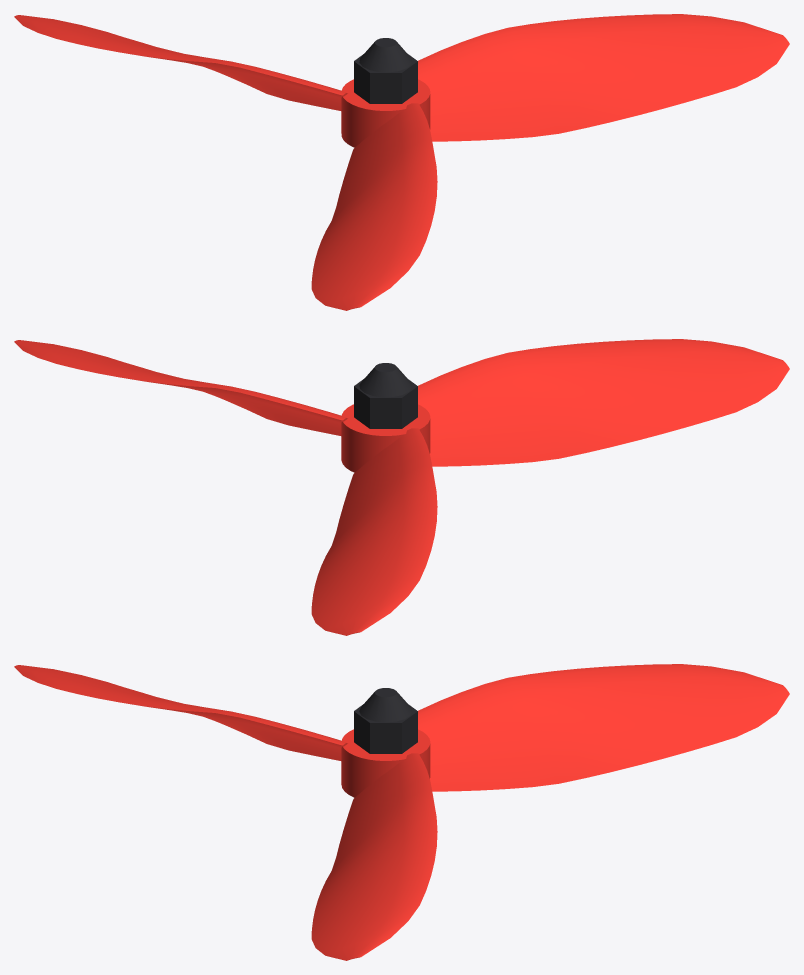
File: prop_5145_3b.glb
3 renders of one model, top to bottom at view 1: azimuth 30°, elevation 25°; view 2: azimuth 150°, elevation 25°; view 3: azimuth 270°, elevation 25°, orthographic.
Visible parts, largest first — view 1: prop_5145_3b_M_Prop_5145_3b, prop_5145_3b_M_Nut; view 2: prop_5145_3b_M_Prop_5145_3b, prop_5145_3b_M_Nut; view 3: prop_5145_3b_M_Prop_5145_3b, prop_5145_3b_M_Nut.
Part boxes in pixels (x1,y1,x2,y2): prop_5145_3b_M_Prop_5145_3b: (14,14,789,310); prop_5145_3b_M_Nut: (354,38,417,103); prop_5145_3b_M_Prop_5145_3b: (14,339,789,635); prop_5145_3b_M_Nut: (354,363,417,428); prop_5145_3b_M_Prop_5145_3b: (14,664,789,960); prop_5145_3b_M_Nut: (354,688,417,753).
Size of the model in its own units: 0.1028 by 0.0172 by 0.1132.
